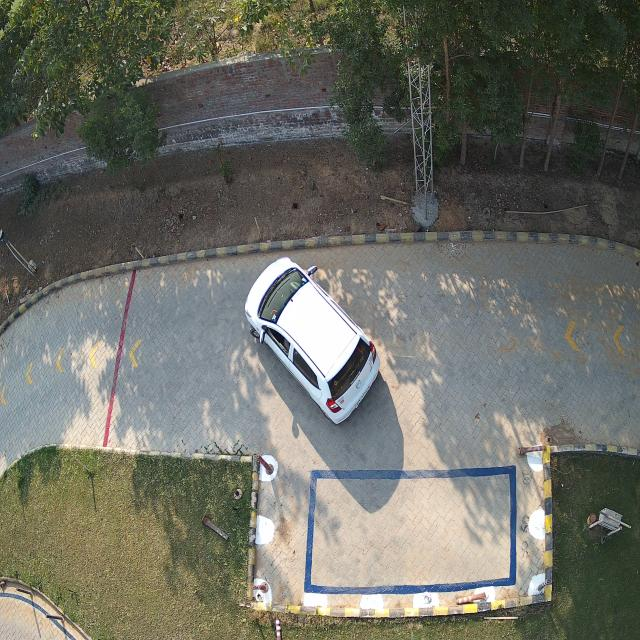car: (244, 257, 381, 426)
